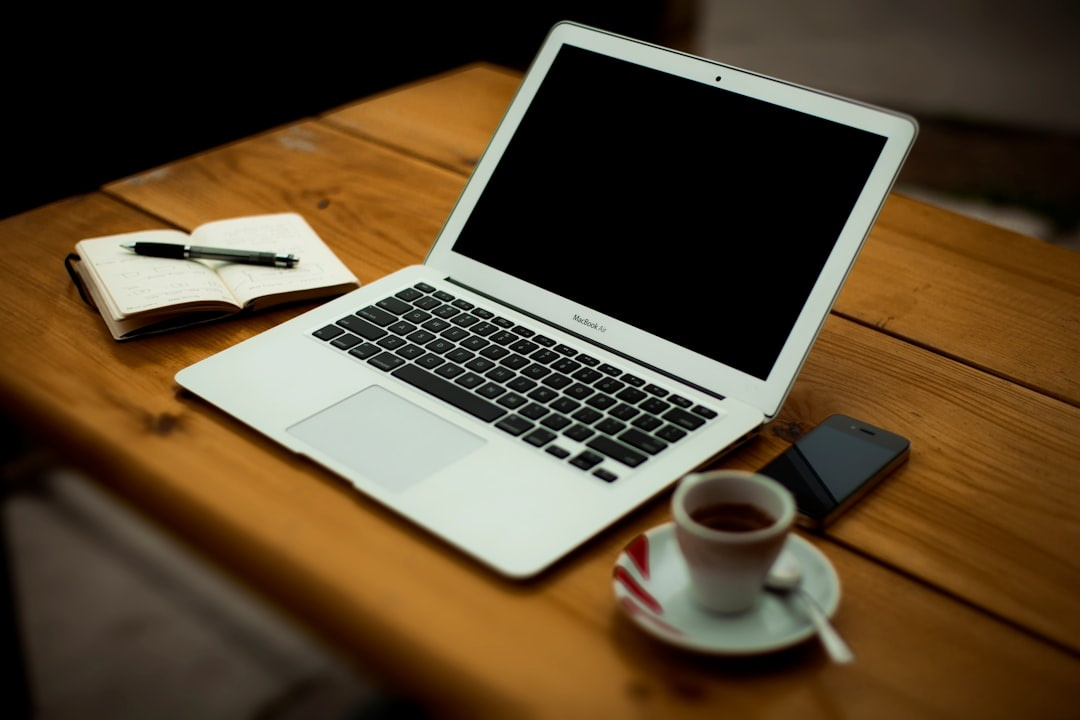laptop: (161, 5, 980, 618)
